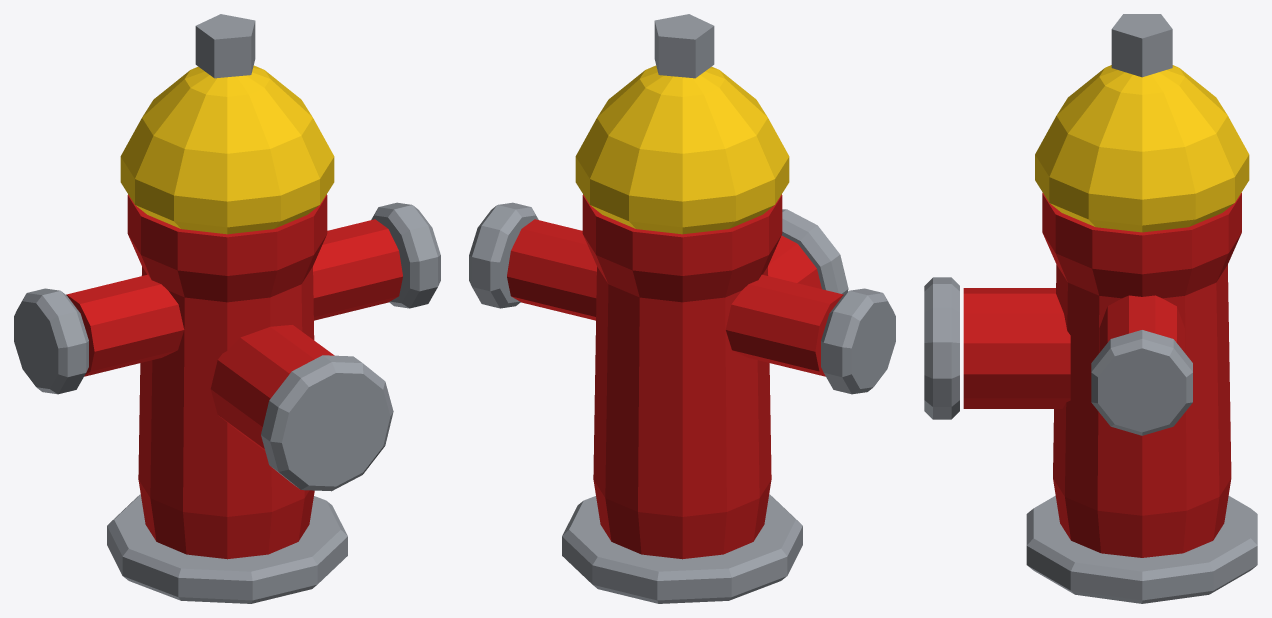
Rendered from PROP_08.obj.
3 views of the same model, side by side, from view 1: azimuth 30°, elevation 25°; view 2: azimuth 150°, elevation 25°; view 3: azimuth 270°, elevation 25° (orthographic).
Parts seen in each view (by area): view 1: PROP_08__barrel, PROP_08__bonnet, PROP_08__nozzle, PROP_08__pumper_cap, PROP_08__base, PROP_08__nozzle_cap, PROP_08__pumper, PROP_08__nut; view 2: PROP_08__barrel, PROP_08__bonnet, PROP_08__nozzle, PROP_08__base, PROP_08__nozzle_cap, PROP_08__nut, PROP_08__pumper_cap, PROP_08__pumper; view 3: PROP_08__barrel, PROP_08__bonnet, PROP_08__base, PROP_08__pumper, PROP_08__nozzle_cap, PROP_08__pumper_cap, PROP_08__nut, PROP_08__nozzle.
Boxes of the visible parts, box(x1,y1,x2,y2) form: PROP_08__barrel: box(127, 194, 327, 559); PROP_08__bonnet: box(120, 65, 334, 234); PROP_08__nozzle: box(66, 219, 402, 376); PROP_08__pumper_cap: box(261, 355, 393, 491); PROP_08__base: box(107, 494, 347, 603); PROP_08__nozzle_cap: box(14, 202, 440, 394); PROP_08__pumper: box(210, 325, 334, 450); PROP_08__nut: box(195, 14, 255, 78); PROP_08__barrel: box(582, 194, 782, 559); PROP_08__bonnet: box(575, 65, 789, 234); PROP_08__nozzle: box(507, 219, 843, 376); PROP_08__base: box(562, 494, 802, 603); PROP_08__nozzle_cap: box(469, 202, 895, 394); PROP_08__nut: box(654, 14, 714, 78); PROP_08__pumper_cap: box(782, 209, 848, 294); PROP_08__pumper: box(768, 235, 821, 288); PROP_08__barrel: box(1042, 192, 1241, 557); PROP_08__bonnet: box(1035, 65, 1249, 232); PROP_08__base: box(1026, 495, 1257, 603); PROP_08__pumper: box(963, 288, 1070, 408); PROP_08__nozzle_cap: box(1091, 330, 1192, 435); PROP_08__pumper_cap: box(924, 277, 959, 419); PROP_08__nut: box(1111, 14, 1172, 77); PROP_08__nozzle: box(1099, 295, 1184, 352).
Size of the model in its own units: 0.62 by 0.82 by 0.4667.
